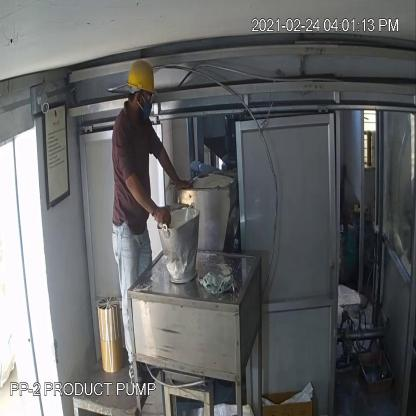helmet: (123, 51, 158, 95)
